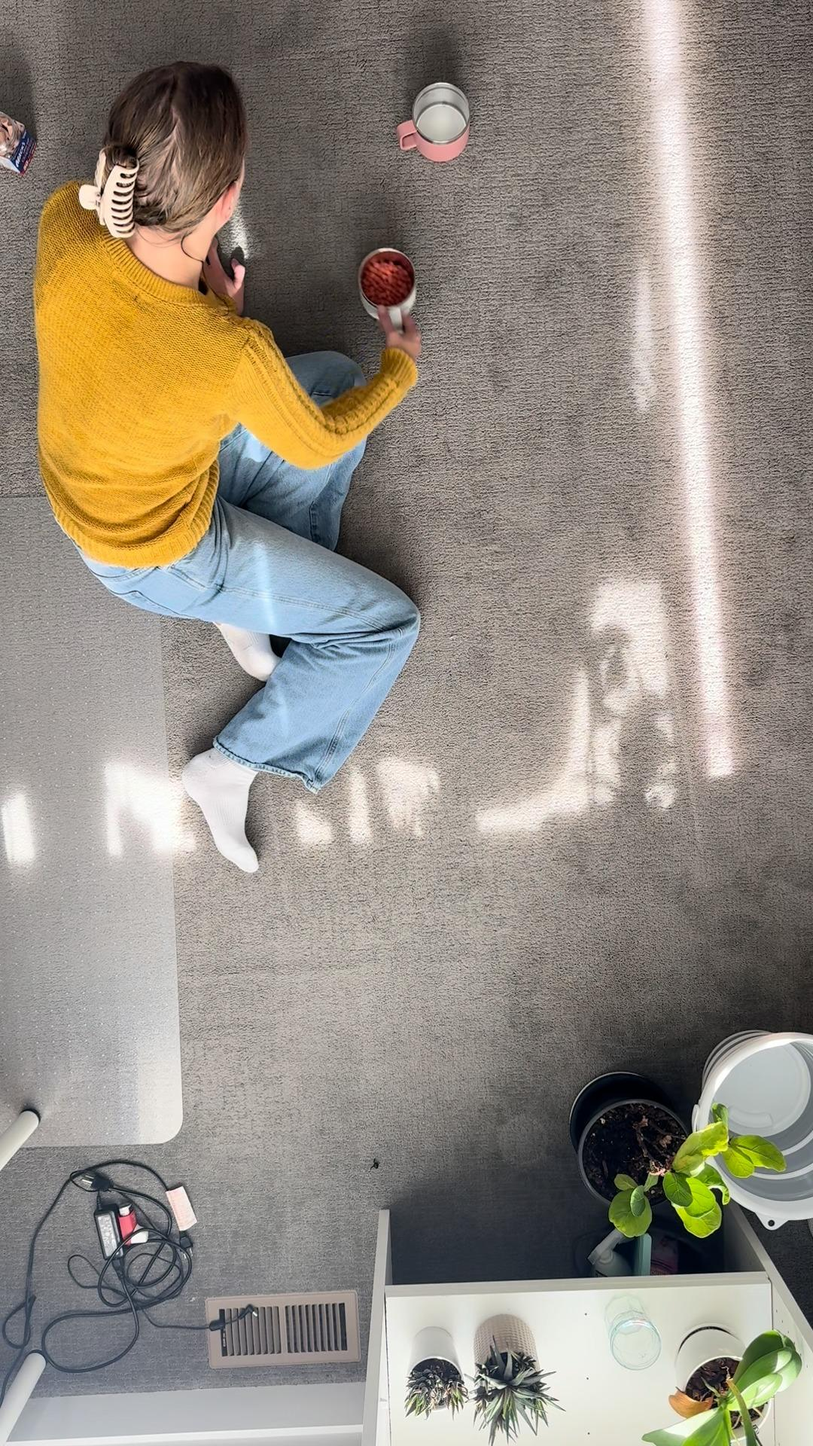IBC: (386, 68, 481, 165), (356, 241, 433, 340)
